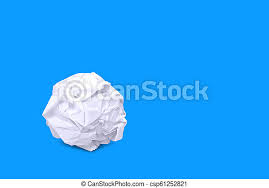crumpled paper: (43, 71, 129, 148)
